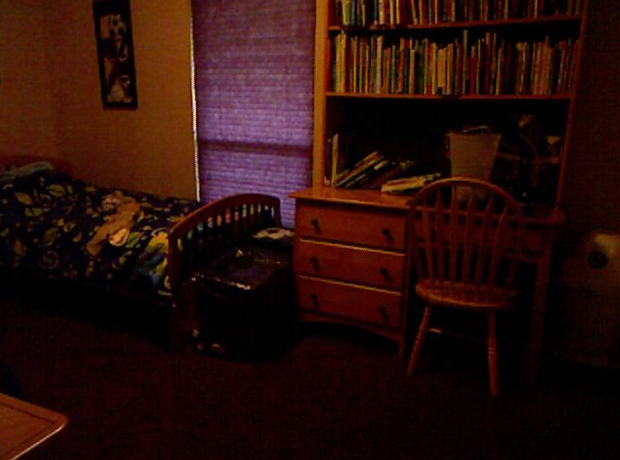cabinet: (293, 182, 399, 337)
cabinetDoor: (300, 252, 393, 282), (302, 289, 395, 319), (302, 211, 395, 241)
chair: (406, 176, 508, 395)
window: (199, 0, 315, 193)
